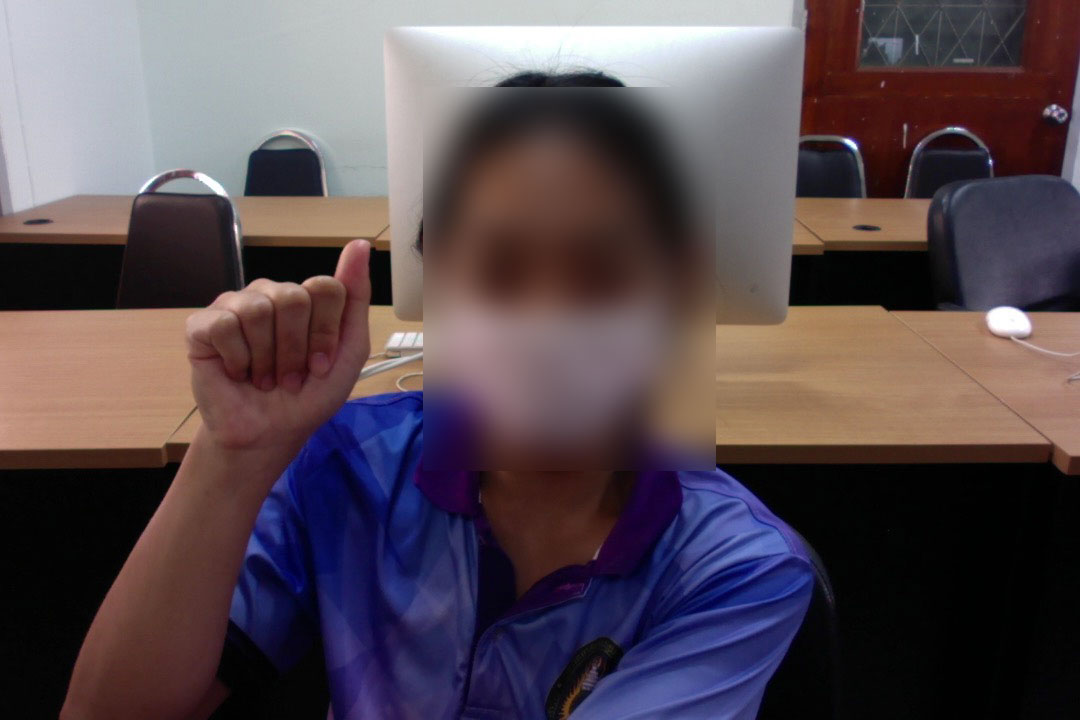or: (169, 230, 384, 477)
